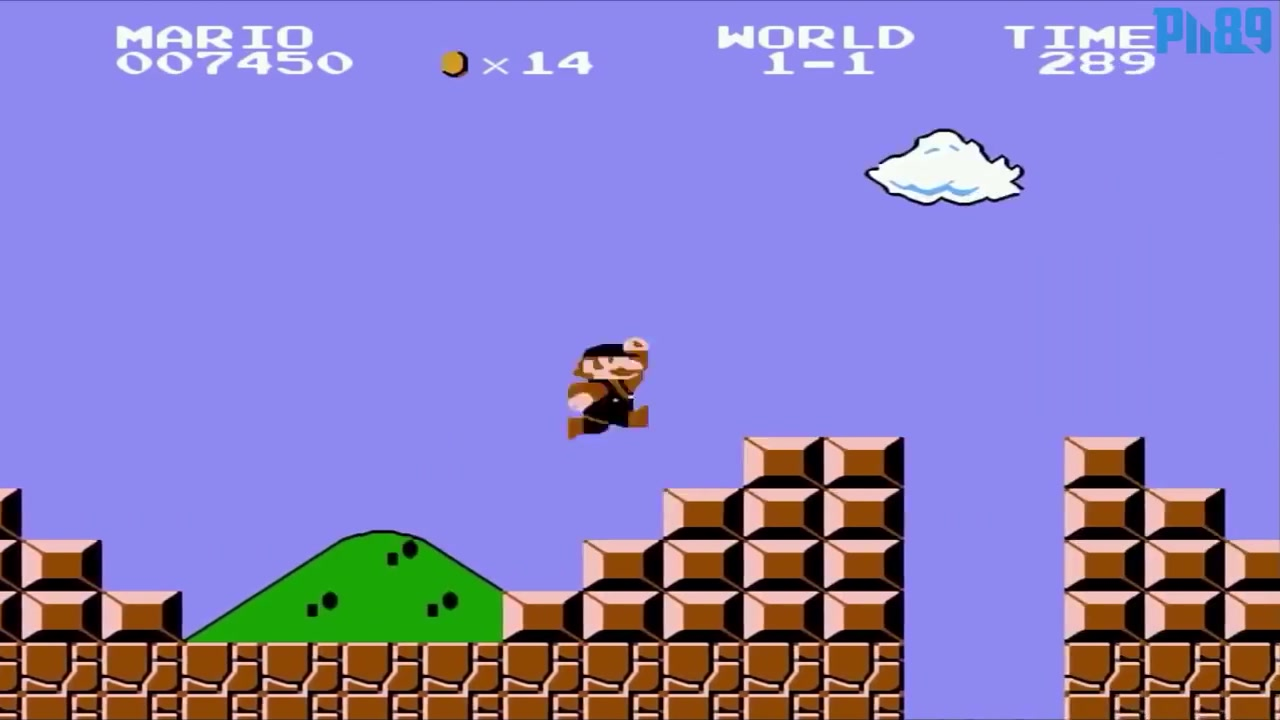mario: (557, 322, 656, 451)
